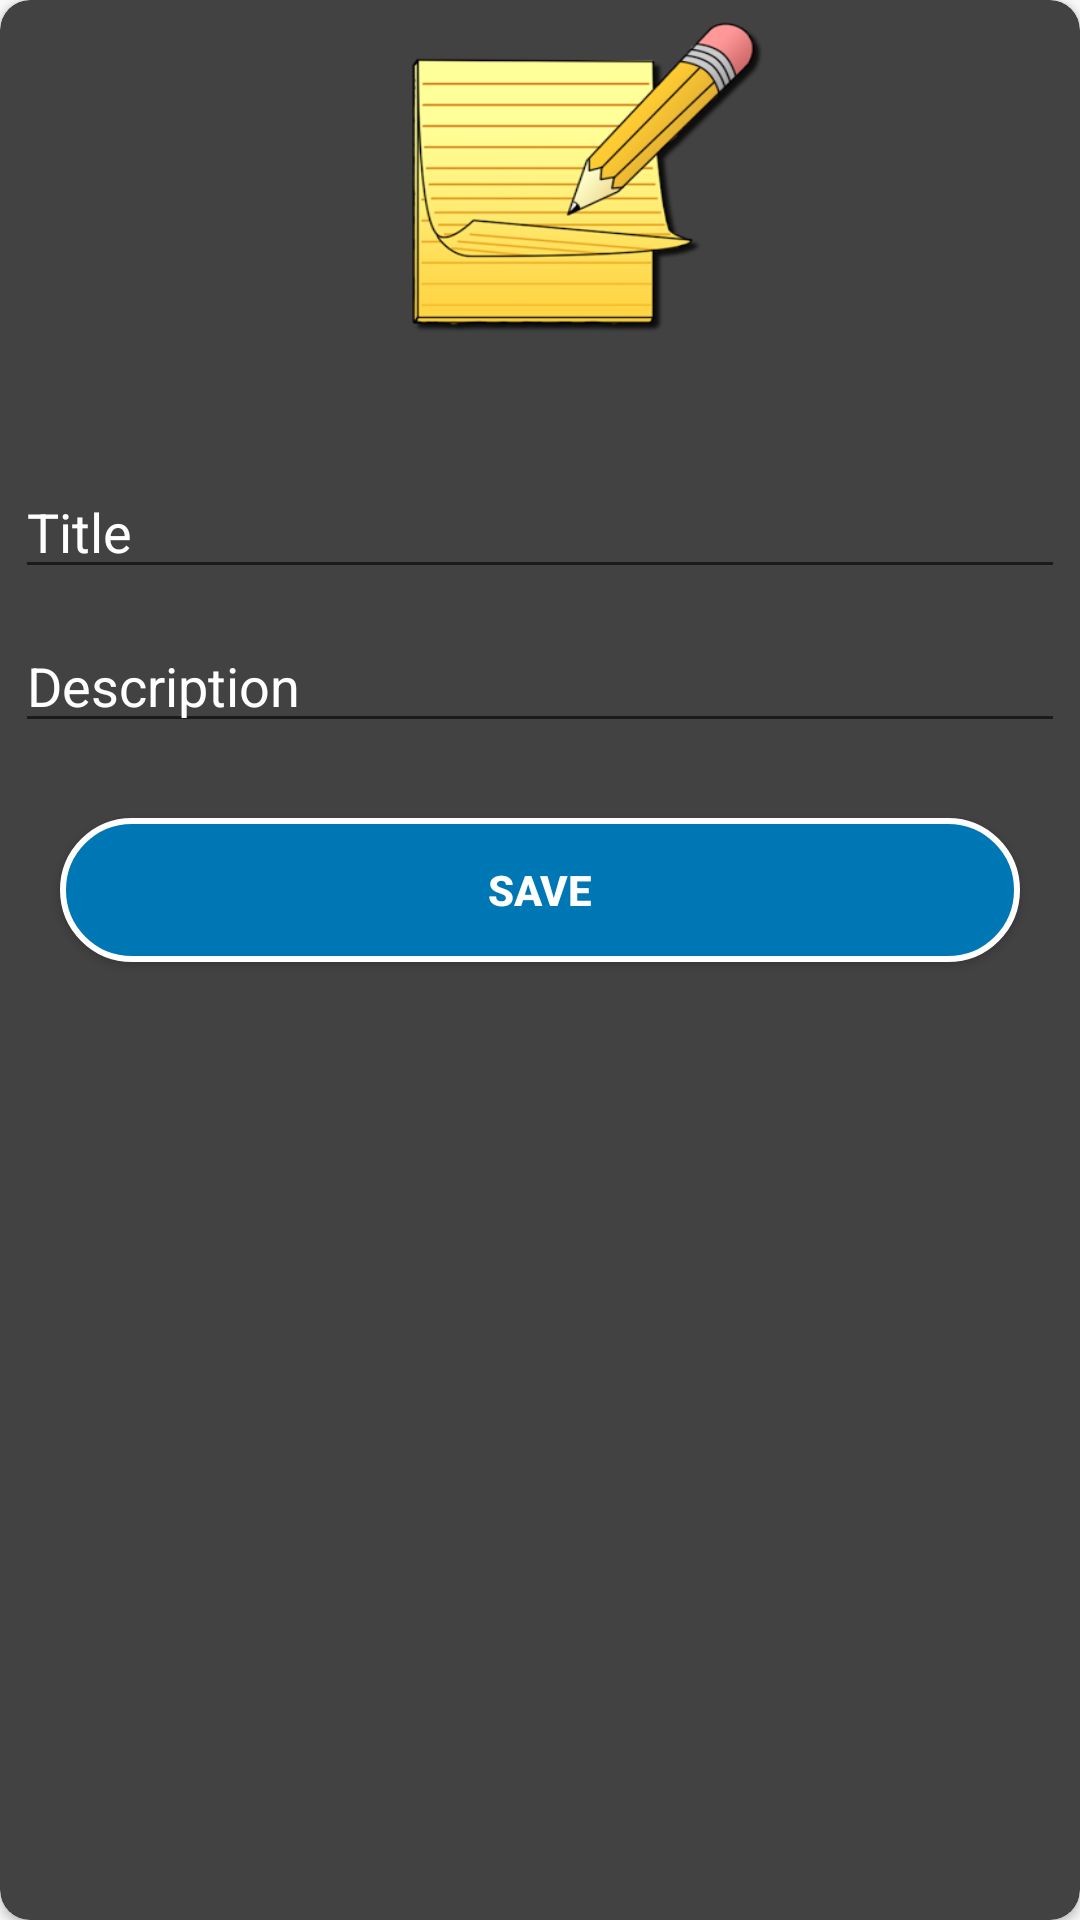

Where icons sit on this 1080w x 1920h app screen, as region(x1, y1, x2, y2):
notebook: region(412, 23, 759, 329)
